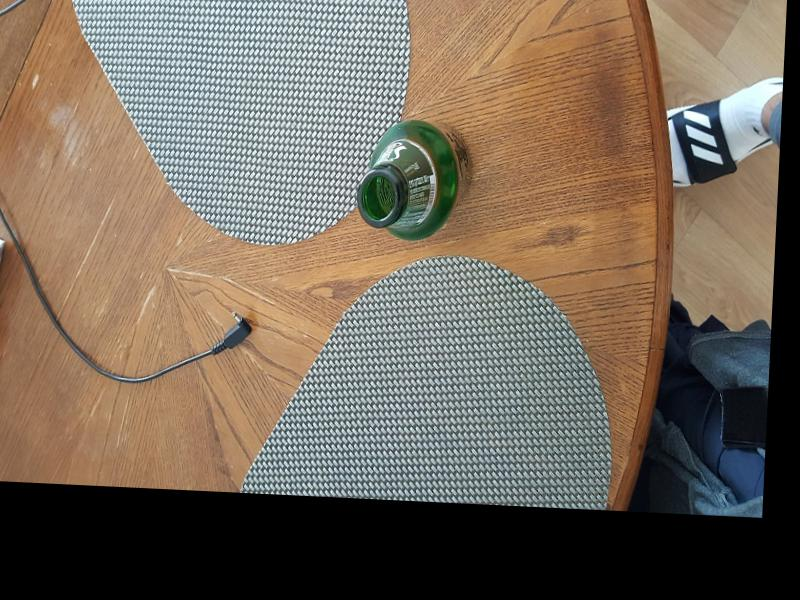Beer: (355, 117, 472, 244)
